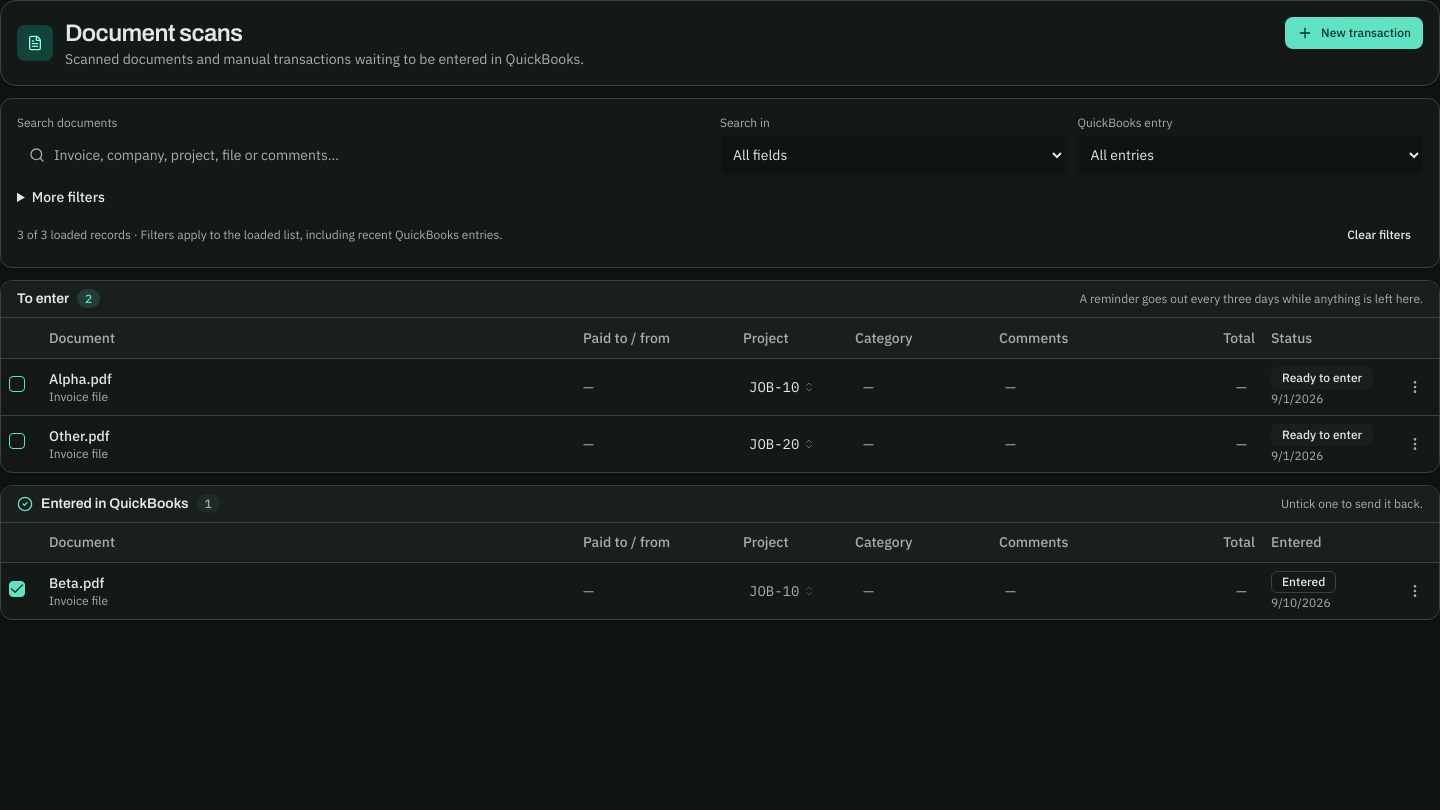
Test case: InvoiceScansPage › searches both queues, narrows by a field and clears filters
Type "JOB-10" into the search field labelled "Search documents" at (362, 155), box [17,135,708,175]
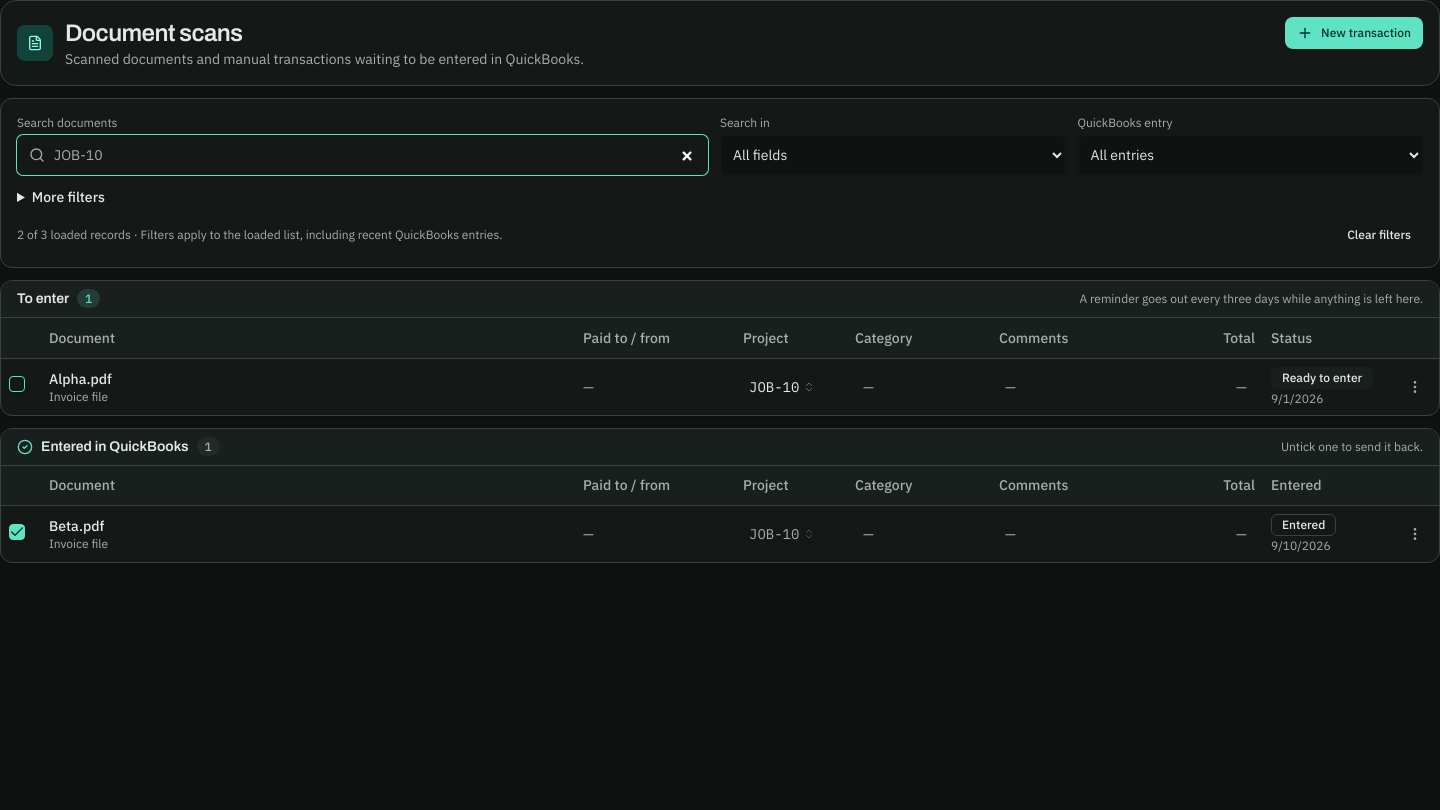
Expected: the link "Beta.pdf" is shown, [49,517,104,535]
Result: the message shows "2 of 3 loaded records" at [17,227,131,242]
Result: the link "Other.pdf" is gone
Select "File name" in the dropdown labelled "Search in" at (893, 155), box [720,135,1066,175]
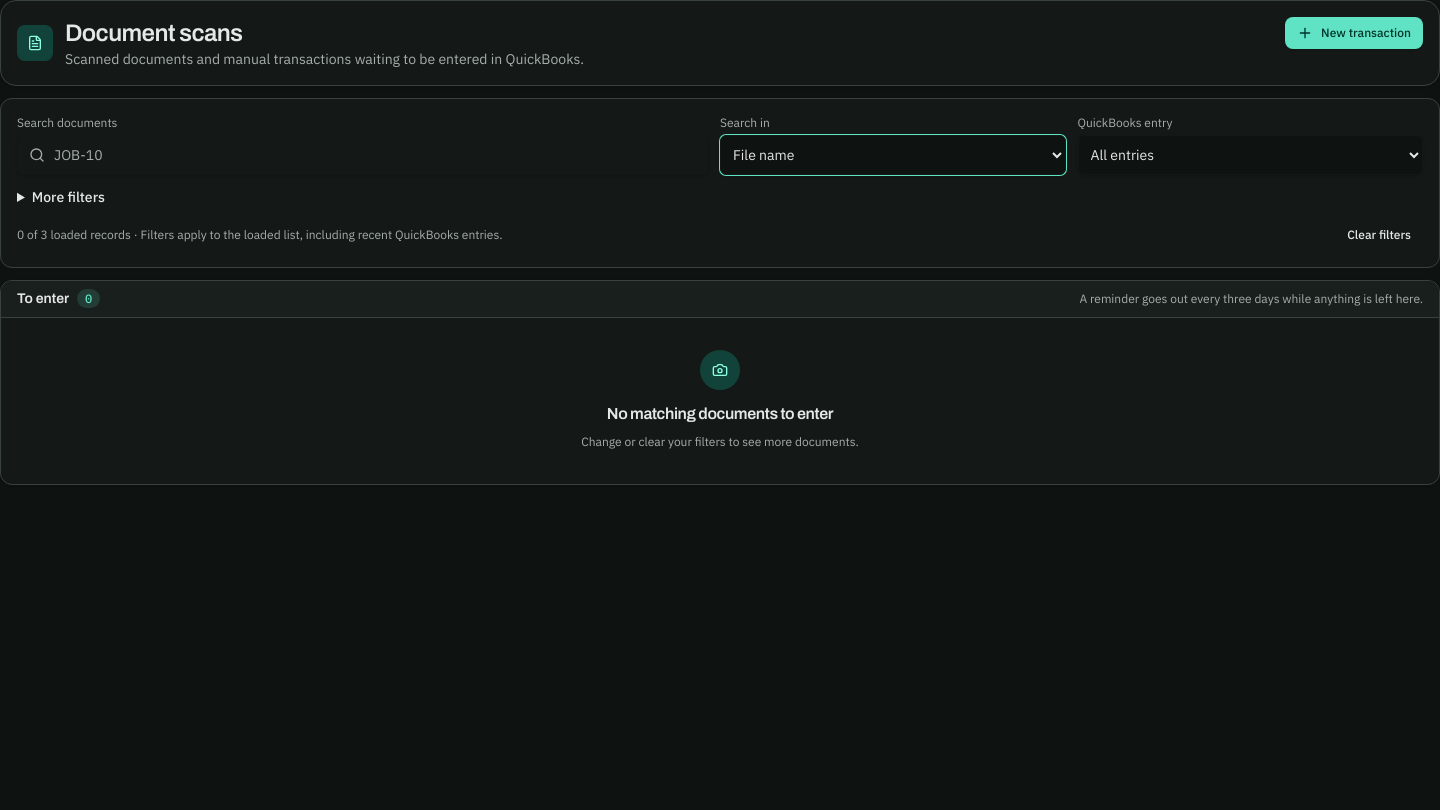
Result: the heading "No matching documents to enter" is shown at [607,402,833,426]
Click the button "Clear filters" at (1379, 235), box [1335,219,1423,251]
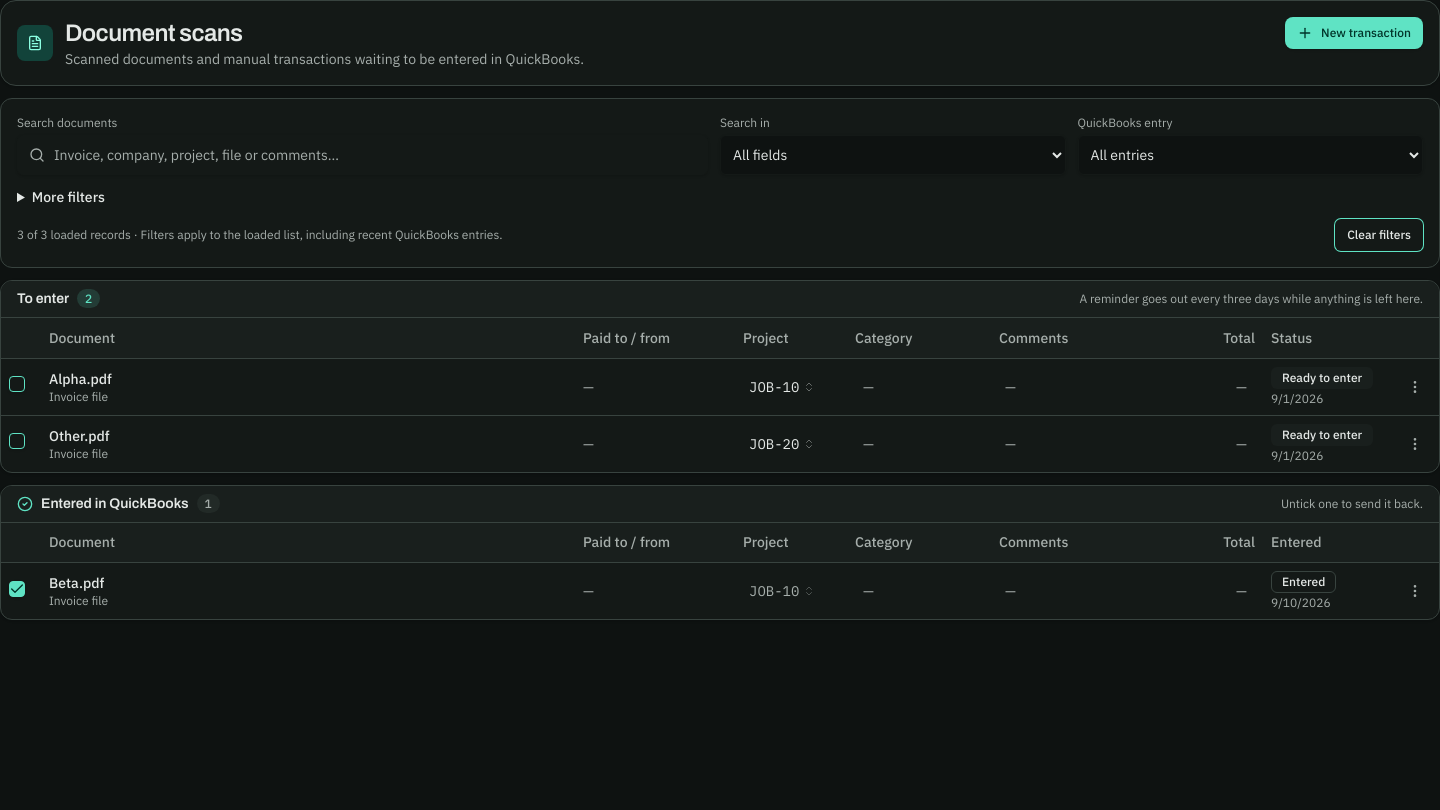
Result: the message shows "3 of 3 loaded records" at [17,227,131,242]
Result: the link "Other.pdf" is shown at [49,426,110,444]
Select "Entered" in the dropdown labelled "QuickBooks entry" at (1250, 155), box [1078,135,1423,175]
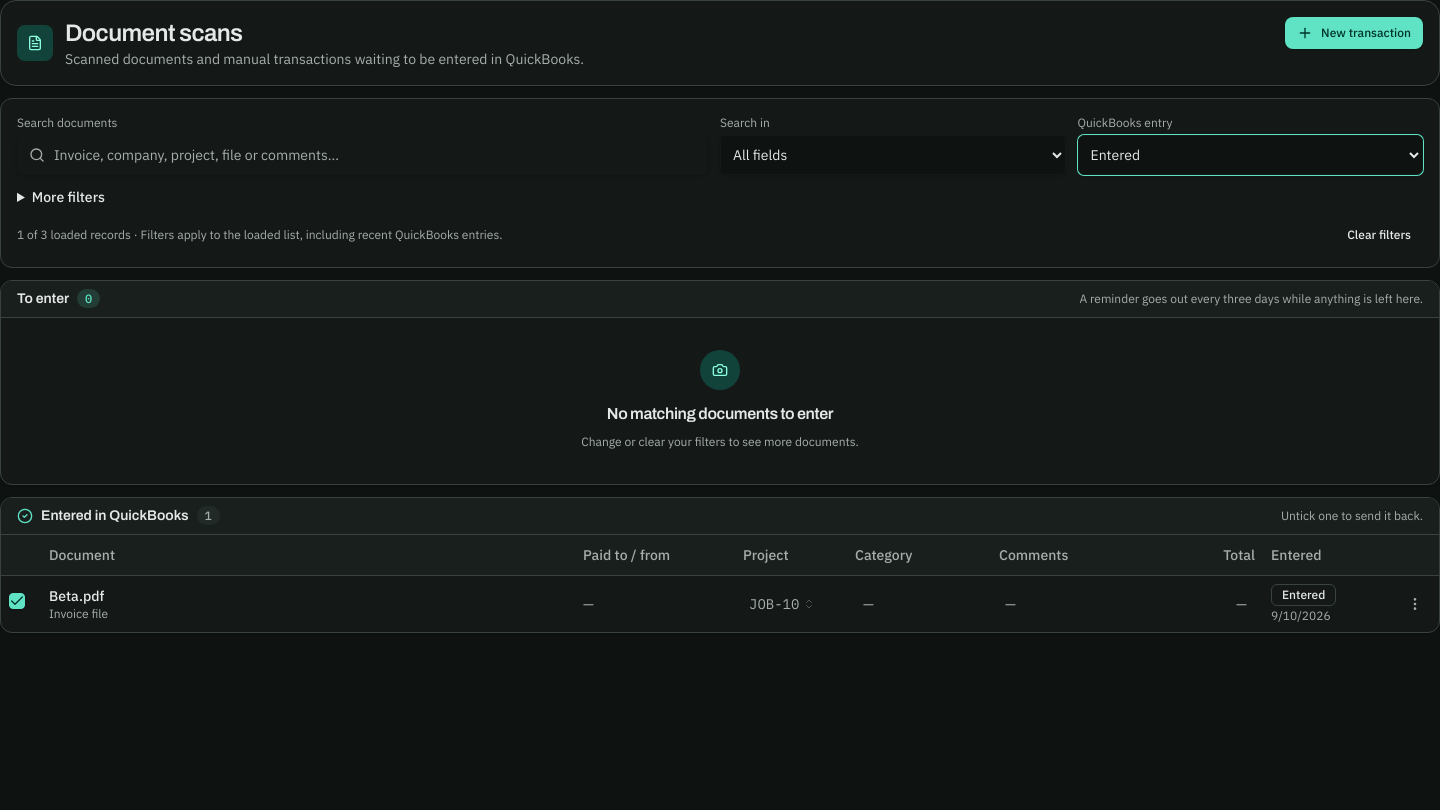
Result: the message shows "1 of 3 loaded records" at [17,227,131,242]
Result: the link "Alpha.pdf" is gone
